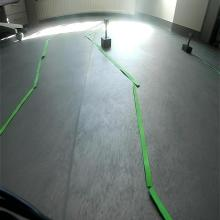green: (103, 18, 109, 25)
